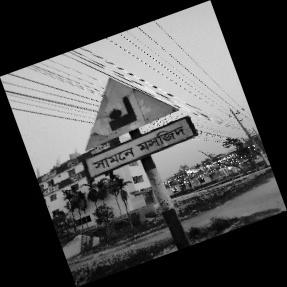Mosque in front: (84, 71, 204, 189)
